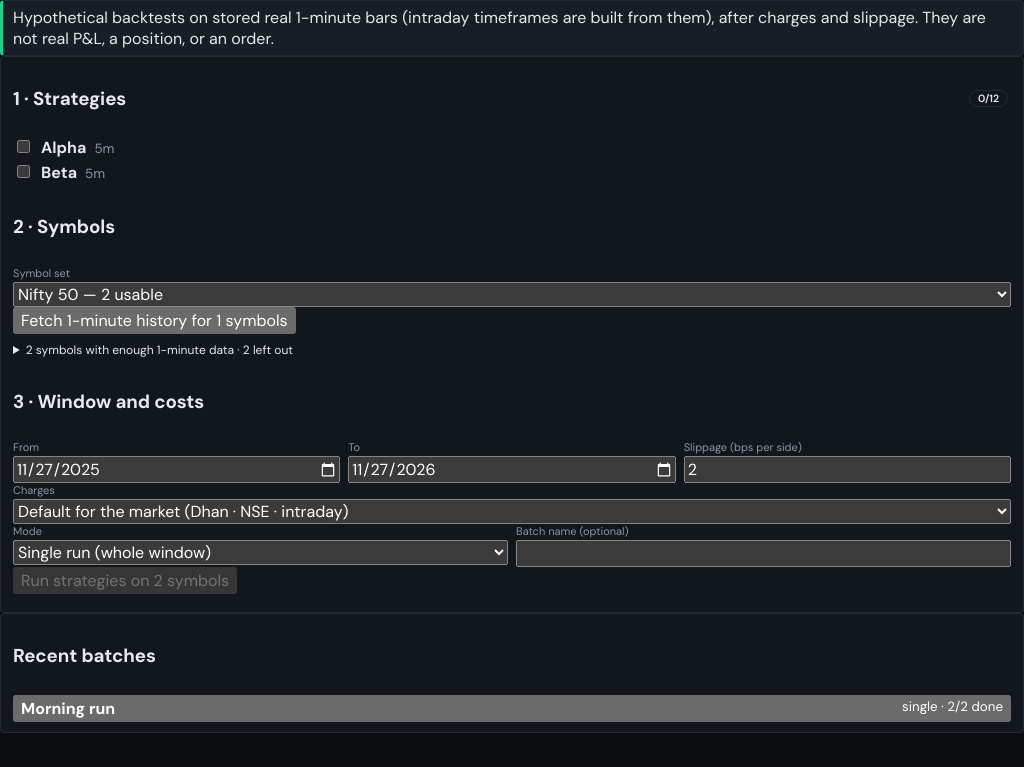
Test case: BacktestLab › always says results are hypothetical, lists only usable intraday strategies and shows symbol-set coverage
This screenshot has width=1024, height=767.
Check: the text "Hypothetical backtests on stored real 1-minute bars" is shown, box [13, 7, 986, 49]
Click the heading "2 symbols with enough 1-minute data · 2 left out" at (159, 350), box [26, 342, 293, 358]
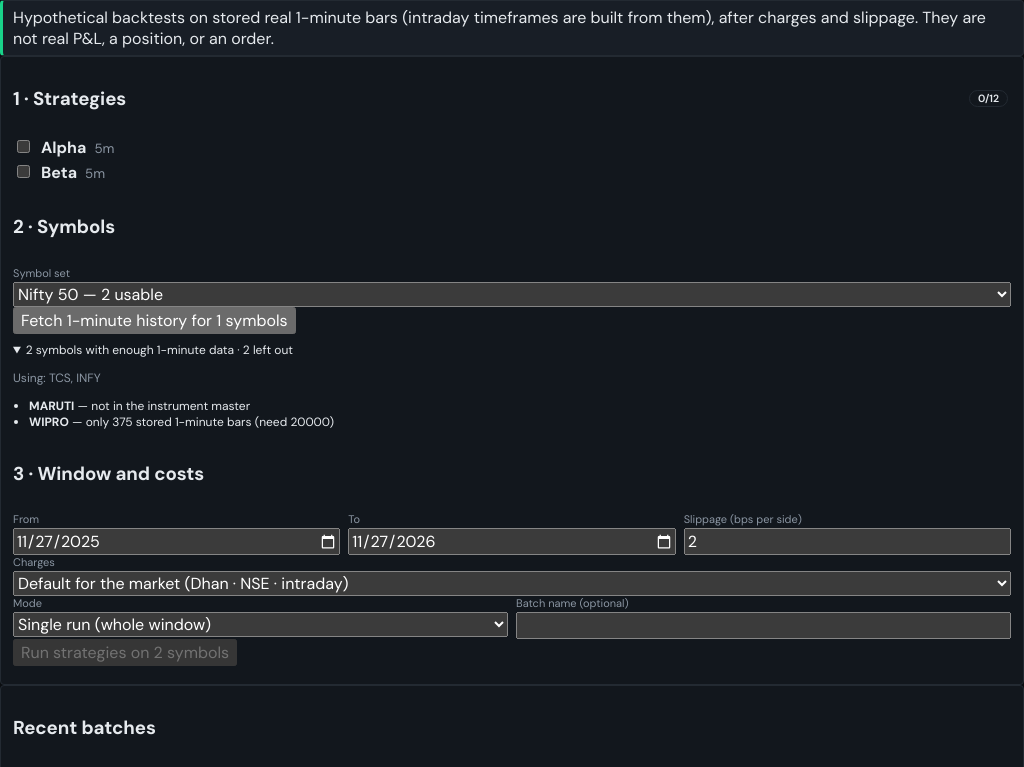
Check: the text "WIPRO" is shown, box [29, 414, 69, 430]
Check: the list item "WIPRO — only 375 stored 1-minute bars (need 20000)" is shown, box [29, 414, 334, 430]
Check: the text "MARUTI" is shown, box [29, 398, 74, 414]
